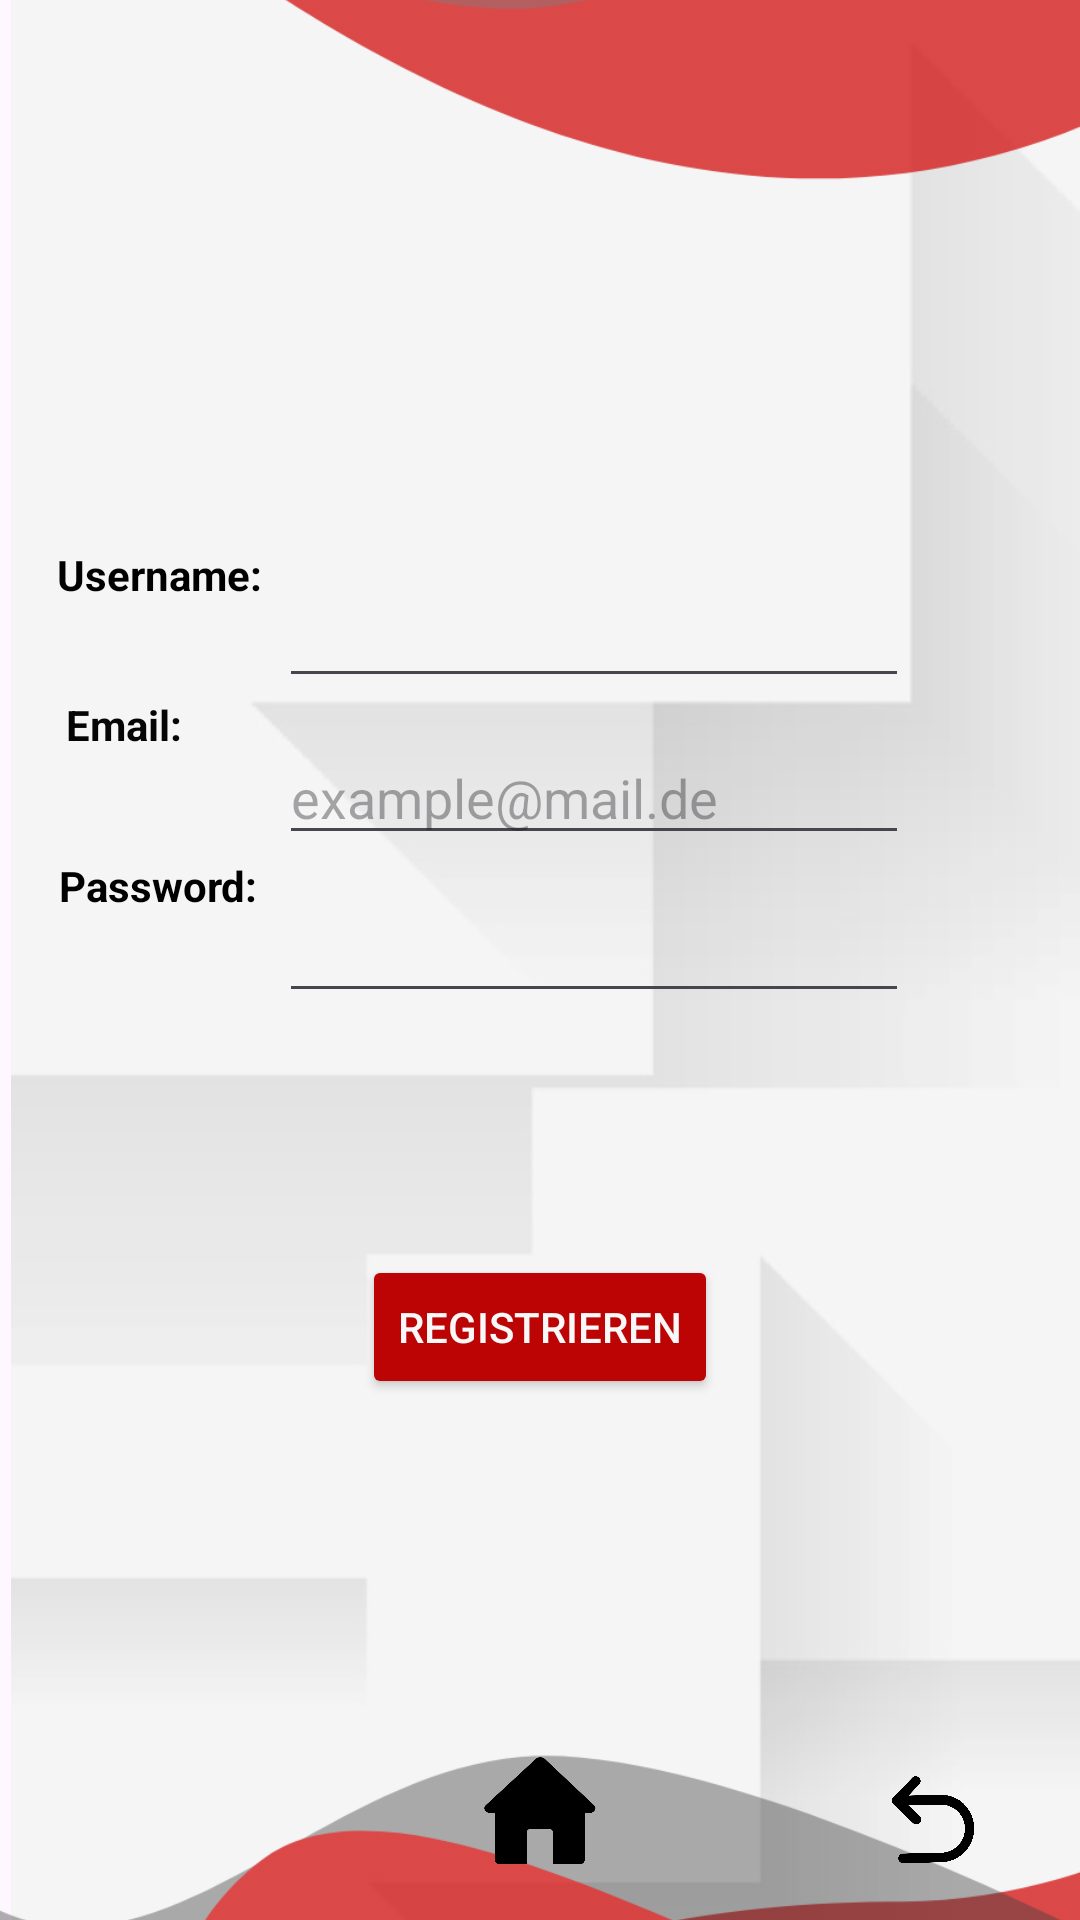

Point at icon controls on the screen. Image size 1080px×1920px, points as (x,y).
backbutton: (934,1819)
home: (540,1810)
